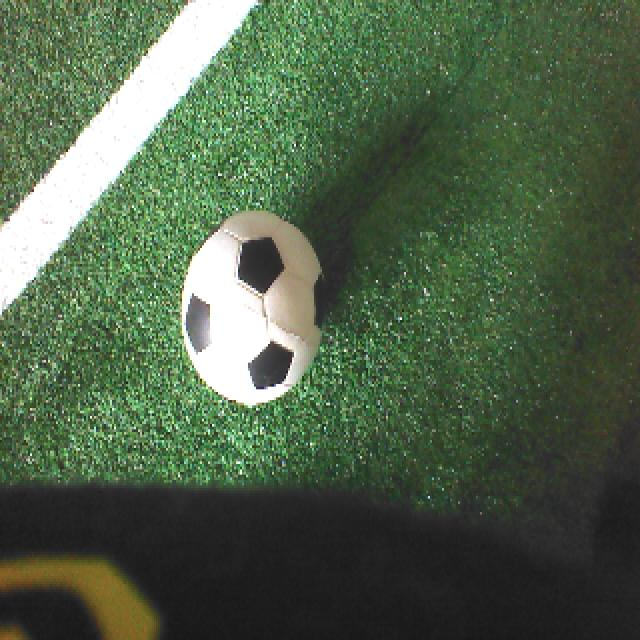ball: (178, 202, 328, 410)
